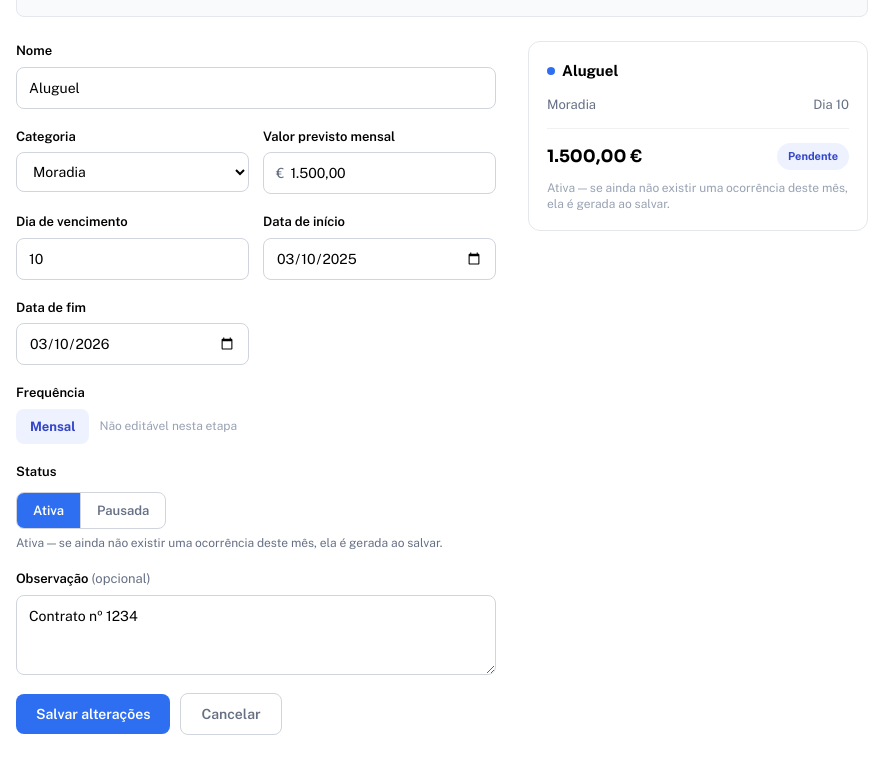
Scenario: EditarDespesaRecorrenteComponent › save-failure handling (FR-011, FR-012, US4) › maps a 400 field-validation error onto the corresponding field inline (FR-012)
(page scrolled)
Click the button with test id "salvar-btn" at (93,714), box [16, 694, 170, 734]
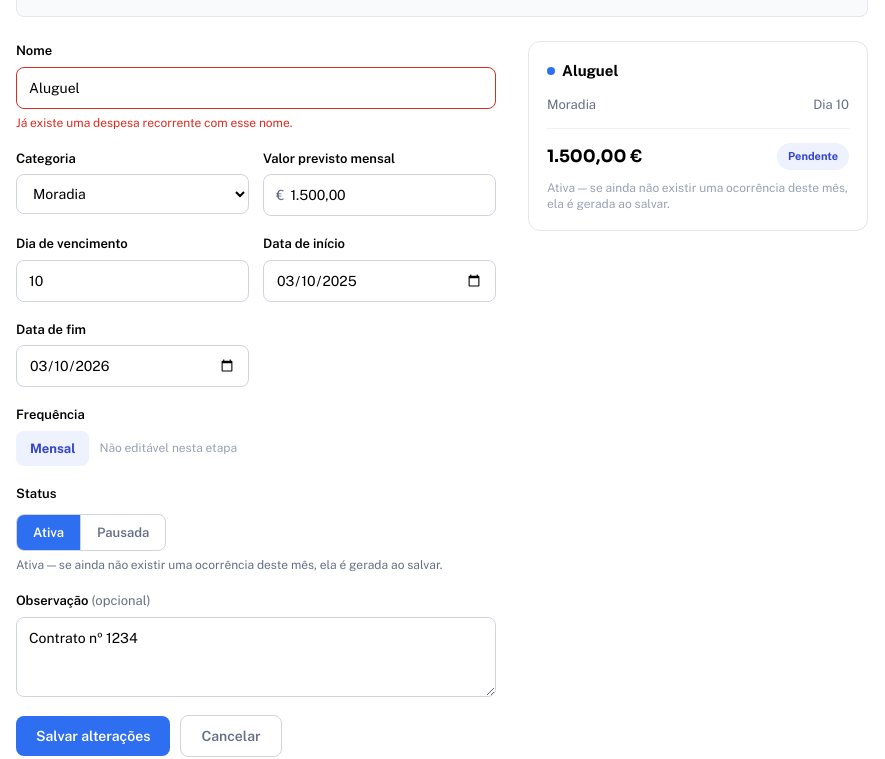
Now the message with test id "nome-error" reads "Já existe uma despesa recorrente com esse nome.", box [16, 116, 292, 130]
